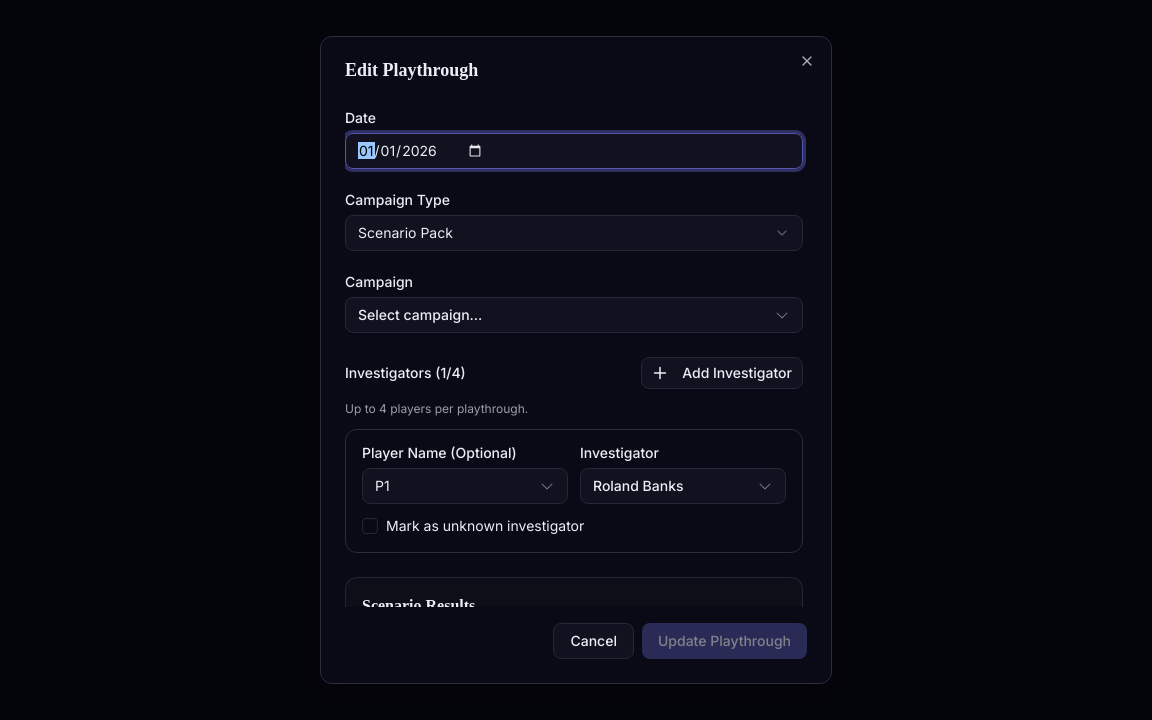
Scenario: PlaythroughForm — Traces To Nowhere (chapter 2 scenario) › is selectable as a Scenario Pack campaign
This screenshot has width=1152, height=720.
Click the dropdown "Select campaign...".
click(420, 314)  # box [345,297,803,333]
(page scrolled)
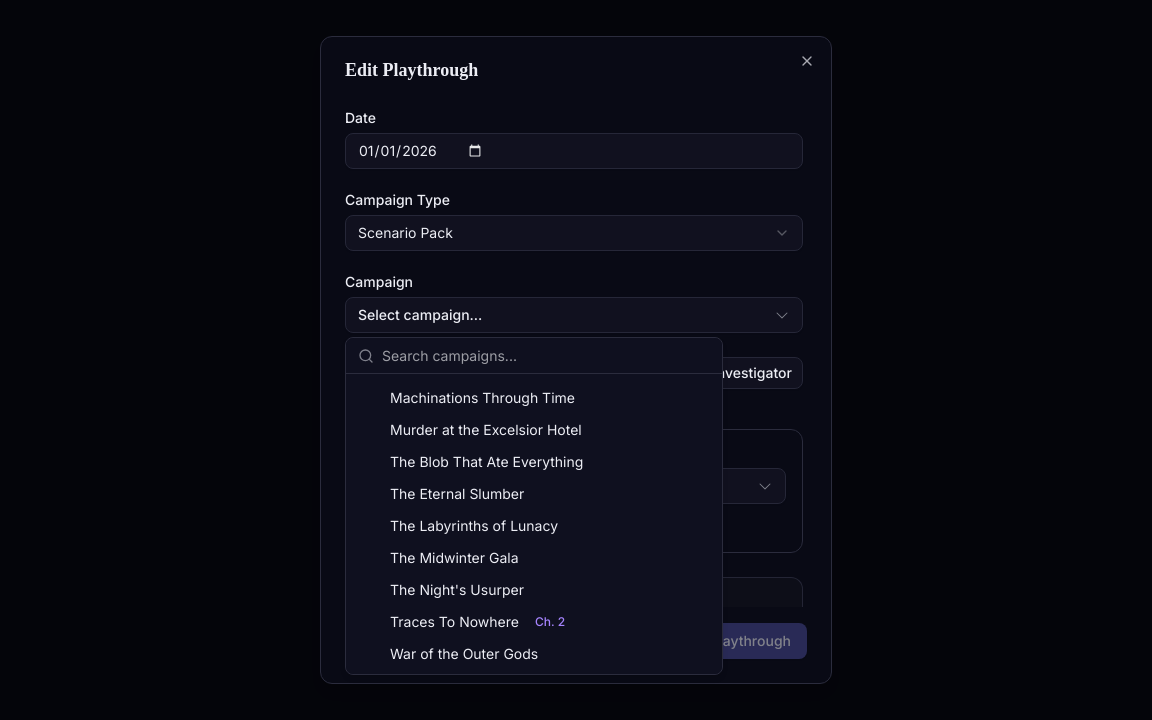
Click the option "Traces To Nowhere Ch. 2".
click(478, 622)  # box [390,613,565,630]
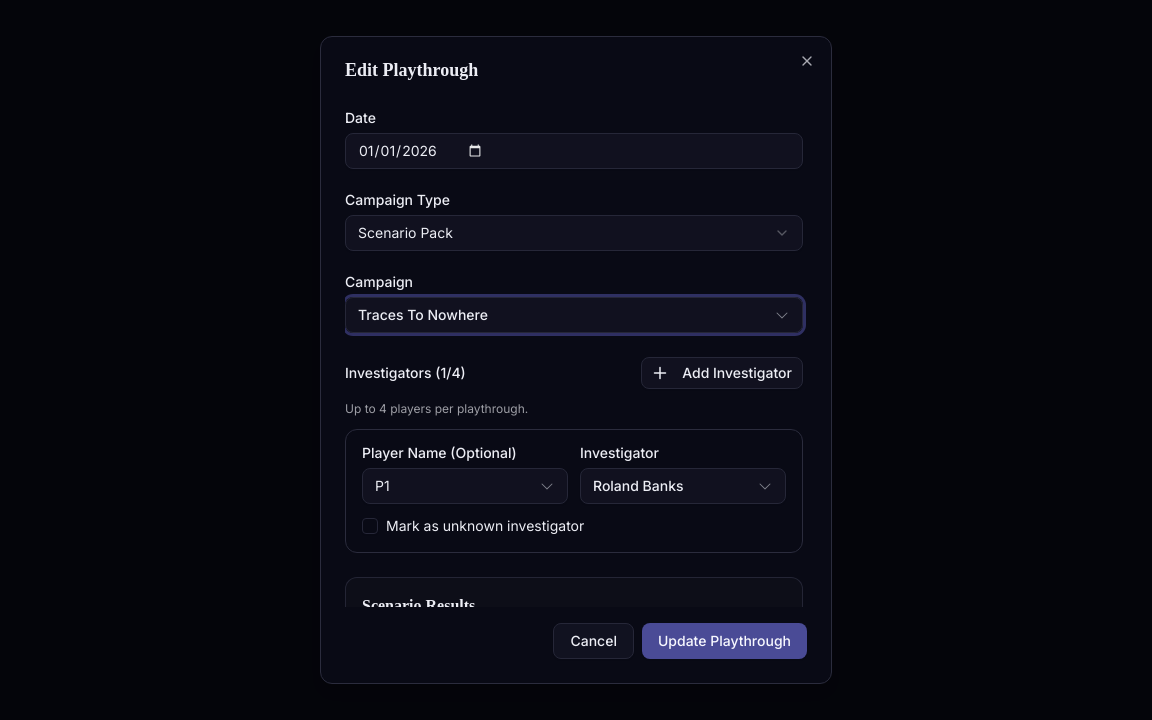
Expected: the dropdown "Traces To Nowhere" is shown, [345,297,803,333]
